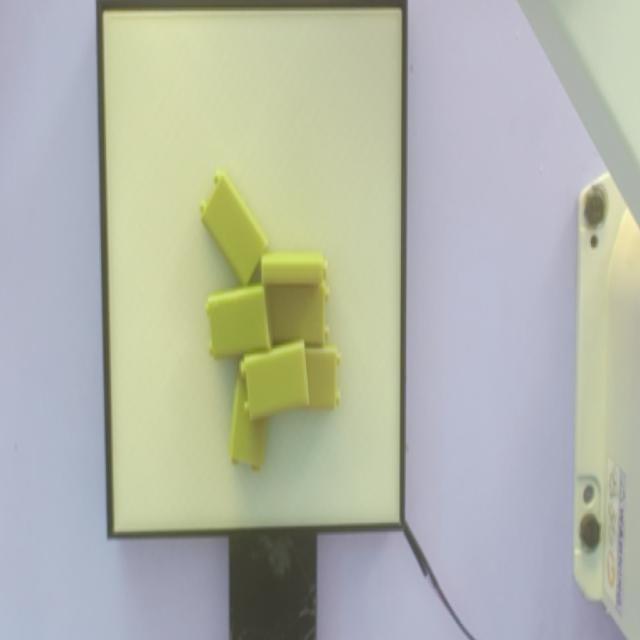bateria: (199, 169, 269, 285), (238, 345, 309, 420), (205, 284, 271, 360)
mesa: (97, 0, 407, 540)
